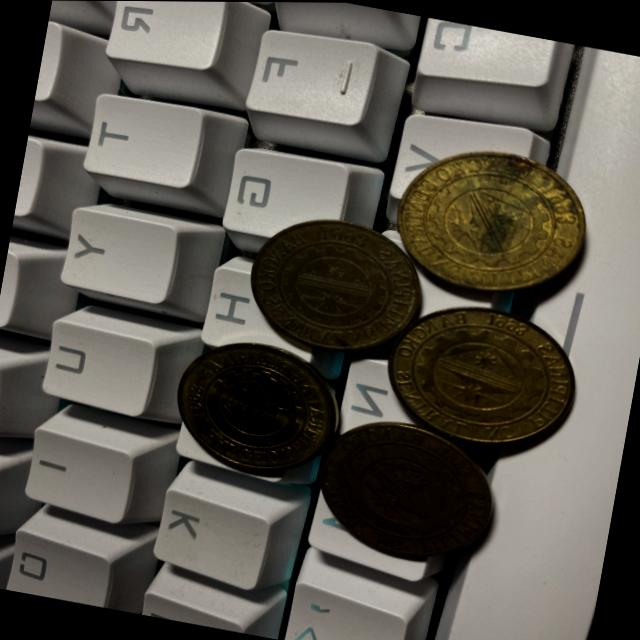25Cent_Old_Back: (387, 292, 580, 453), (392, 143, 590, 299), (256, 208, 419, 356), (316, 420, 494, 555), (178, 337, 340, 472)
